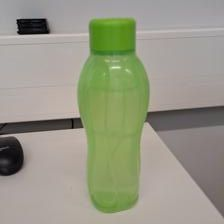bottle: (76, 16, 154, 213)
